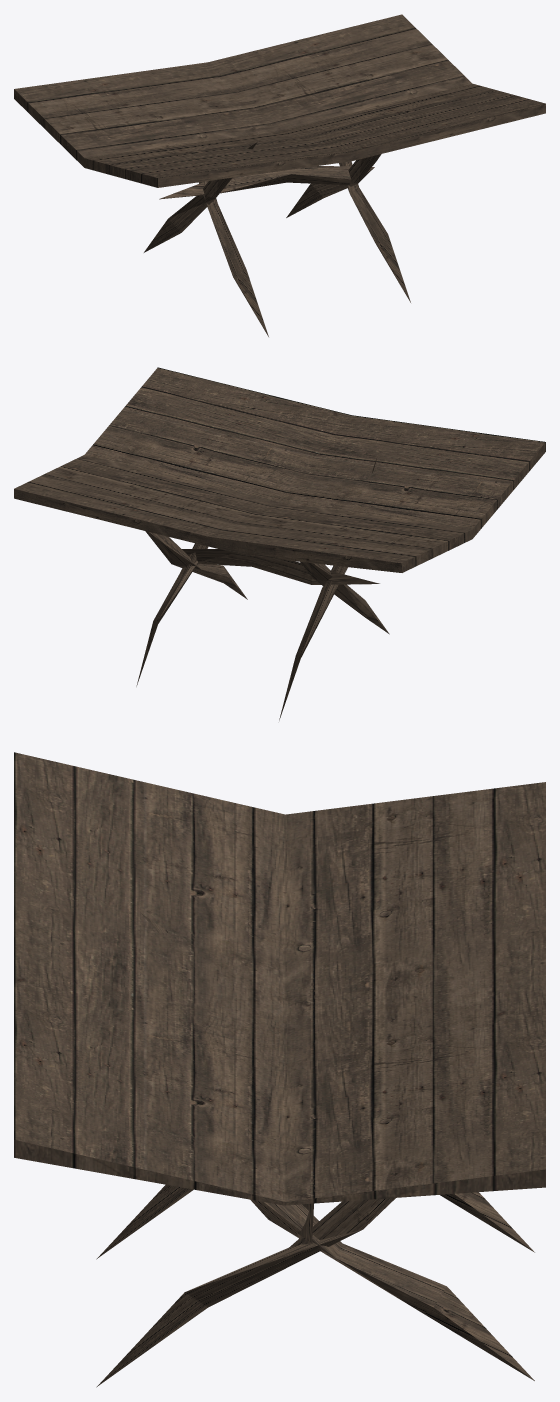
File: desert_ruins_table_LOD1.fbx
3 renders of one model, top to bottom at view 1: azimuth 30°, elevation 25°; view 2: azimuth 150°, elevation 25°; view 3: azimuth 270°, elevation 25°, orthographic. The views are drawn at different scales.
Parts seen in each view (by area): view 1: Default_Layer; view 2: Default_Layer; view 3: Default_Layer.
Part boxes in pixels (<box>): Default_Layer: <box>14,14,545,336</box>; Default_Layer: <box>14,367,545,720</box>; Default_Layer: <box>14,752,545,1387</box>.
Size of the model in its own units: 151 by 77.97 by 97.18.
